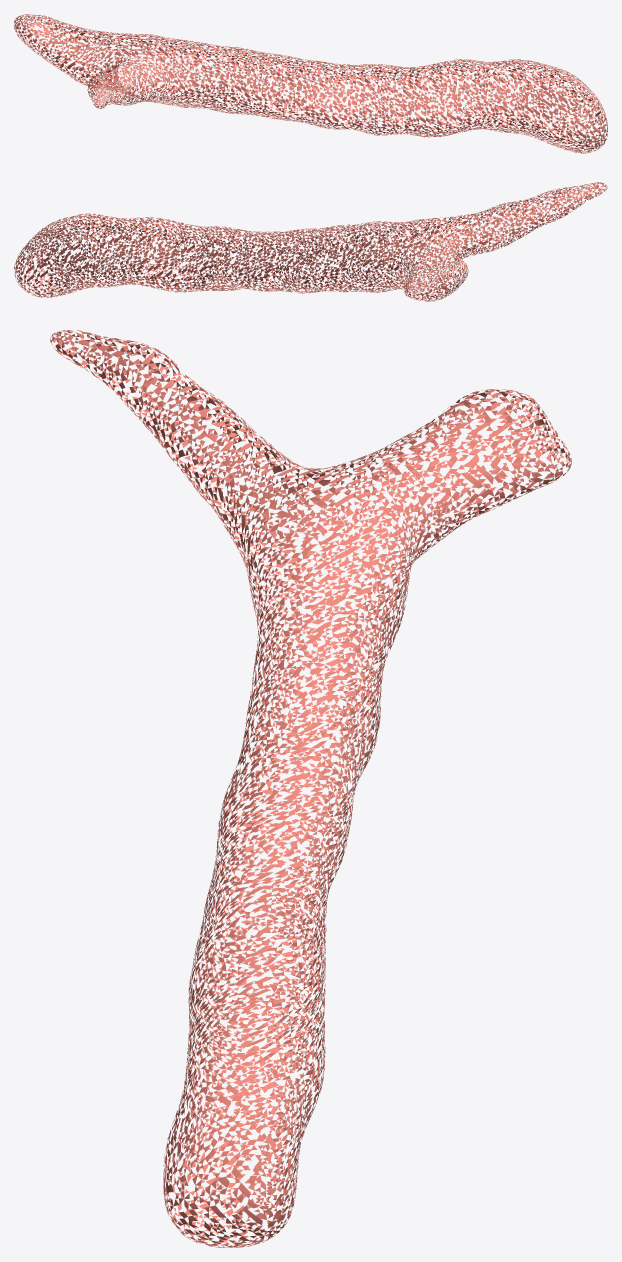
Rendered from diseased.glb.
The picture shows the model from 3 angles, top to bottom: view 1: azimuth 30°, elevation 25°; view 2: azimuth 150°, elevation 25°; view 3: azimuth 270°, elevation 25°; orthographic projection. The views are drawn at different scales.
Bounding box in the file's own units: 132 × 48.56 × 54.85.
